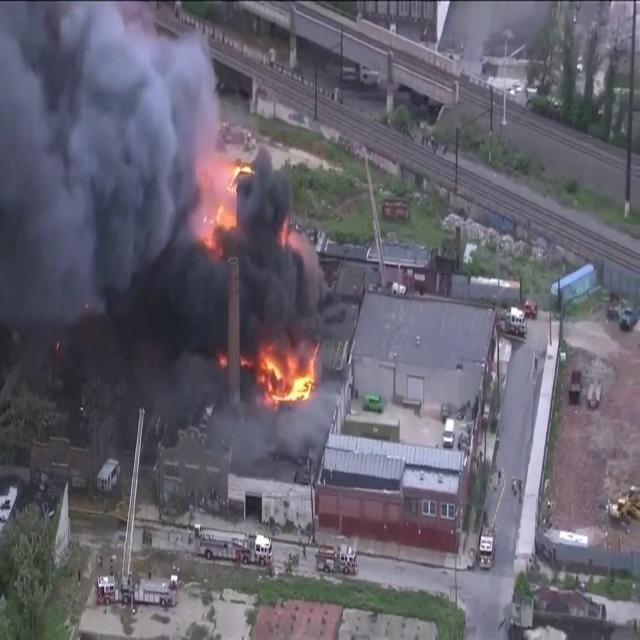Fire: (254, 337, 320, 407), (204, 153, 250, 244)
Smoke: (0, 2, 220, 336)
